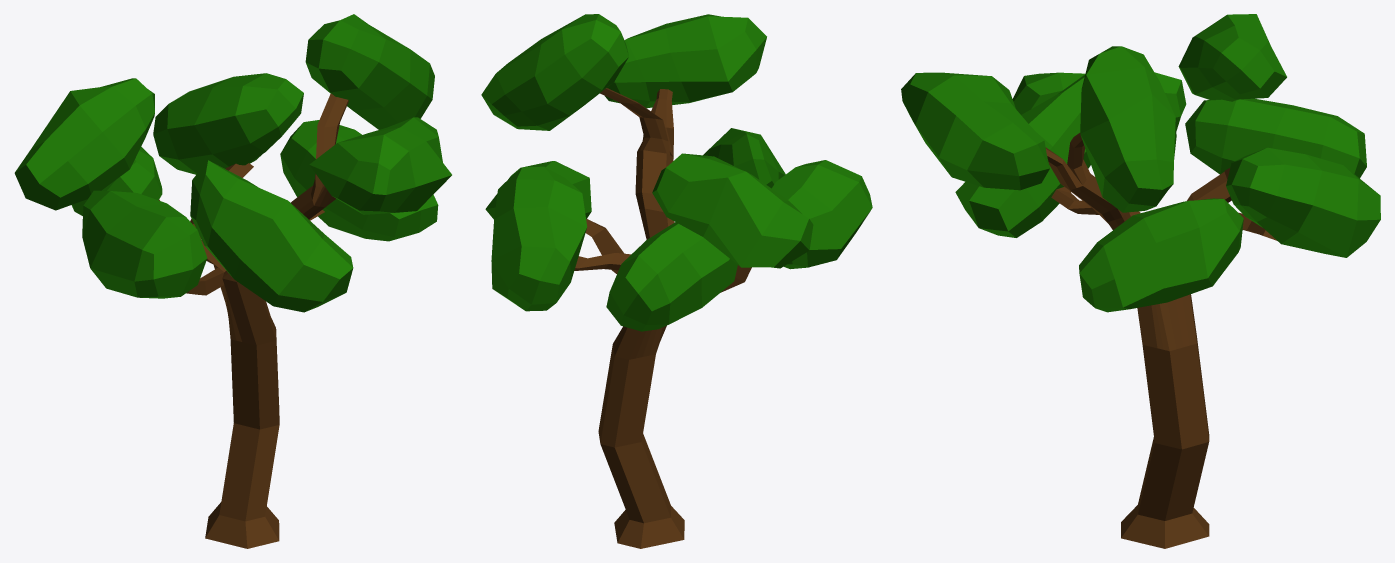
Rendered from tree.fbx.
The picture shows the model from 3 angles, left to right: view 1: azimuth 30°, elevation 25°; view 2: azimuth 150°, elevation 25°; view 3: azimuth 270°, elevation 25°; orthographic projection. The views are drawn at different scales.
Parts seen in each view (by area): view 1: Cube.001, Cube; view 2: Cube.001, Cube; view 3: Cube.001, Cube.
Boxes of the visible parts, box(x1,y1,x2,y2) form: Cube.001: box(14, 14, 451, 312); Cube: box(159, 93, 348, 548); Cube.001: box(481, 14, 872, 331); Cube: box(574, 88, 751, 548); Cube.001: box(901, 14, 1380, 312); Cube: box(1045, 133, 1276, 548).
Bounding box in the file's own units: 1010 × 1306 × 1086.
